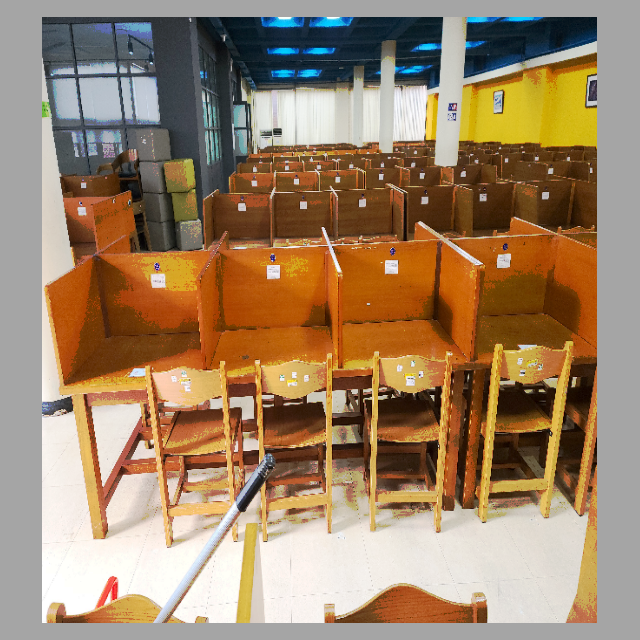empty: (50, 262, 204, 449), (209, 257, 344, 440), (348, 254, 474, 433)
